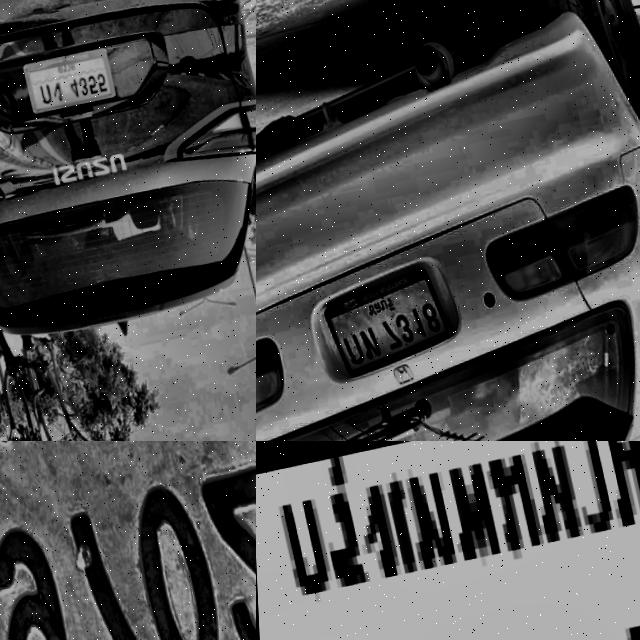license-plate: (256, 441, 640, 640), (0, 441, 256, 640), (315, 264, 456, 386), (9, 34, 121, 127)
